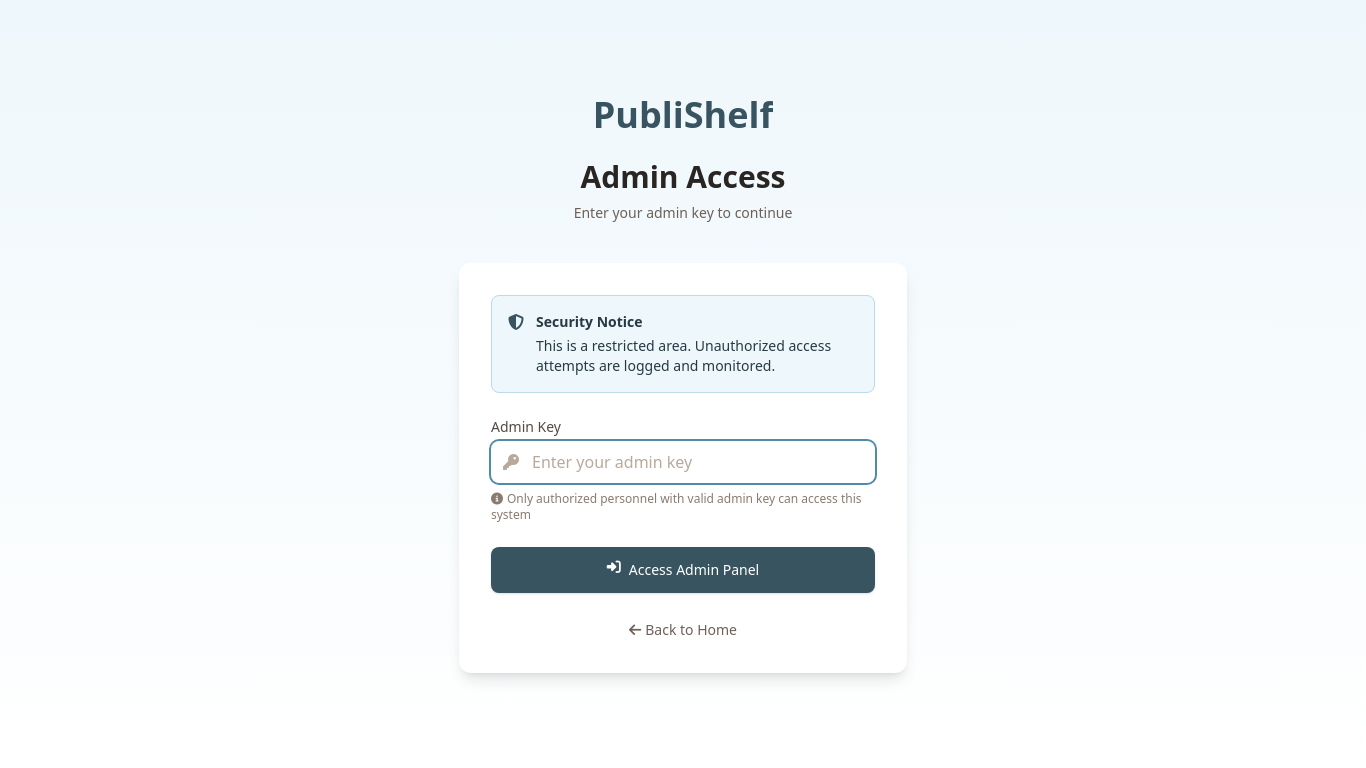
it: AdminLogin › shows validation error when admin key is missing
This screenshot has width=1366, height=768.
What coordinates should you click on to do the following:
click the button "Access Admin Panel"
I would click on:
 (683, 570)
Its box is 491,547 -> 875,593.
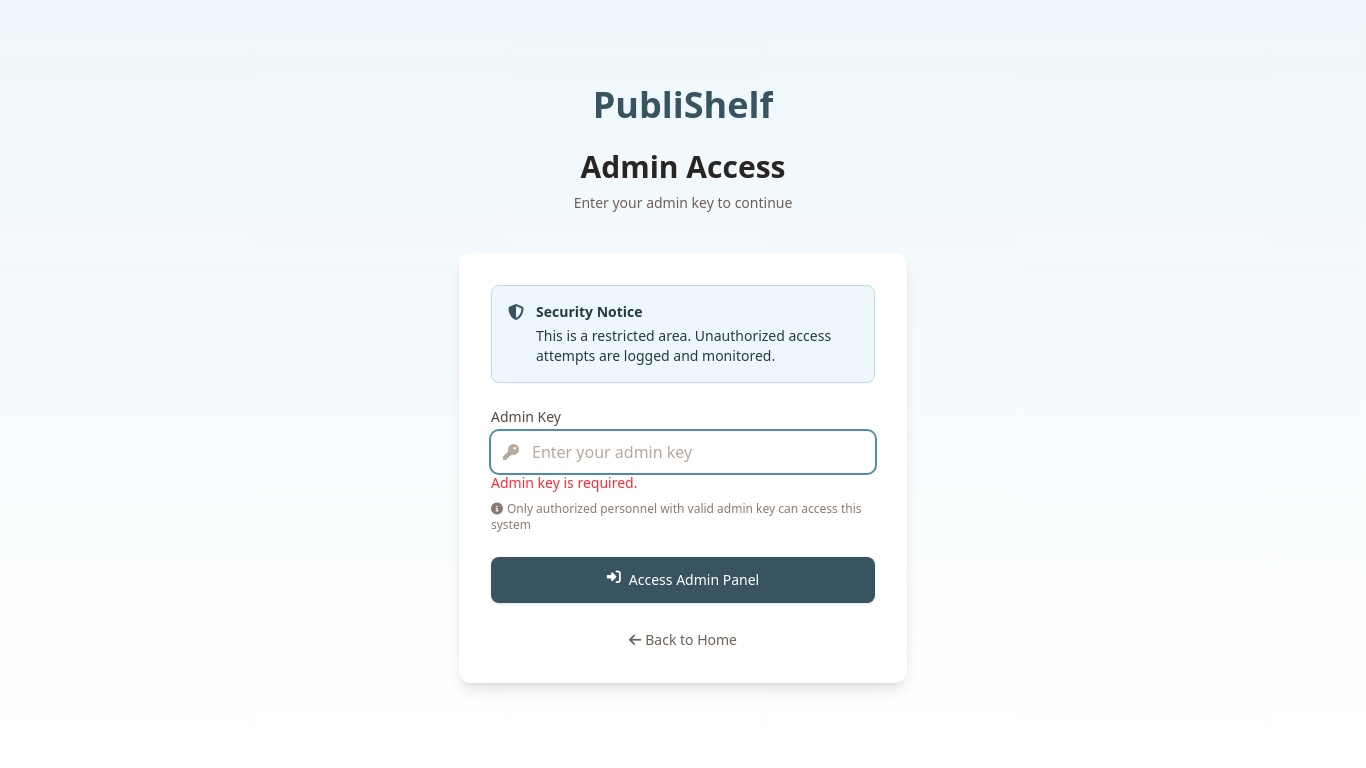
Result: the text "Admin key is required." is shown at 491,473 -> 637,492
